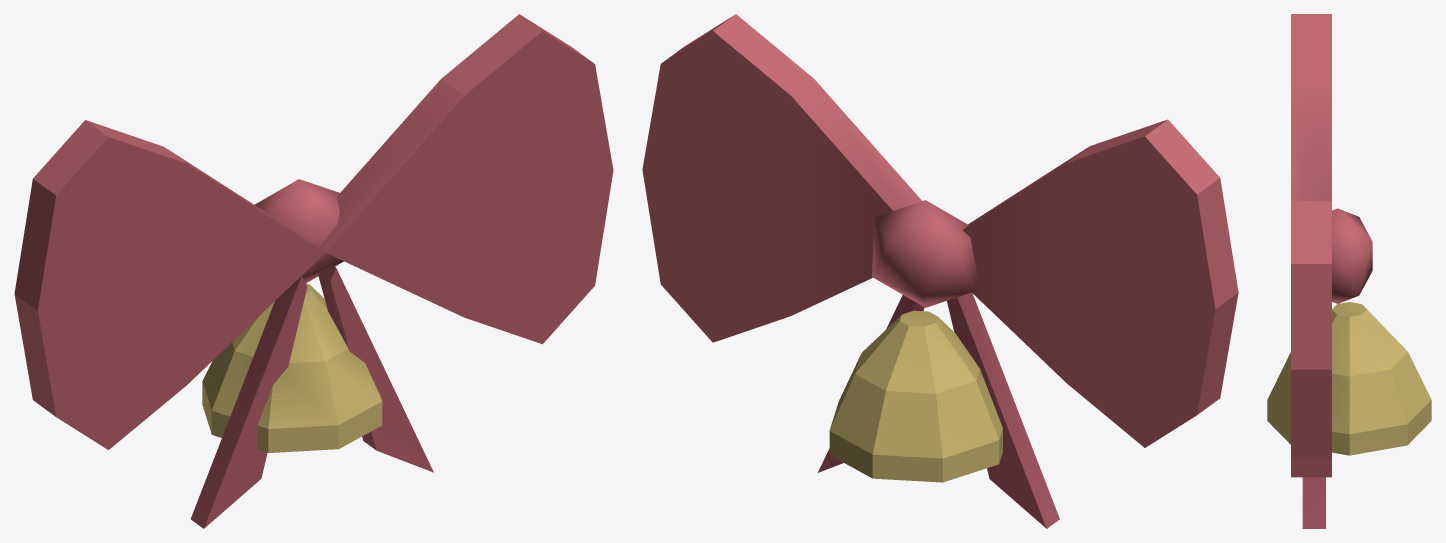
Rendered from resident_bow_bell_low.glb.
3 renders of one model, left to right at view 1: azimuth 30°, elevation 25°; view 2: azimuth 150°, elevation 25°; view 3: azimuth 270°, elevation 25°, orthographic. The views are drawn at different scales.
Size of the model in its own units: 1 by 0.7 by 0.28.
